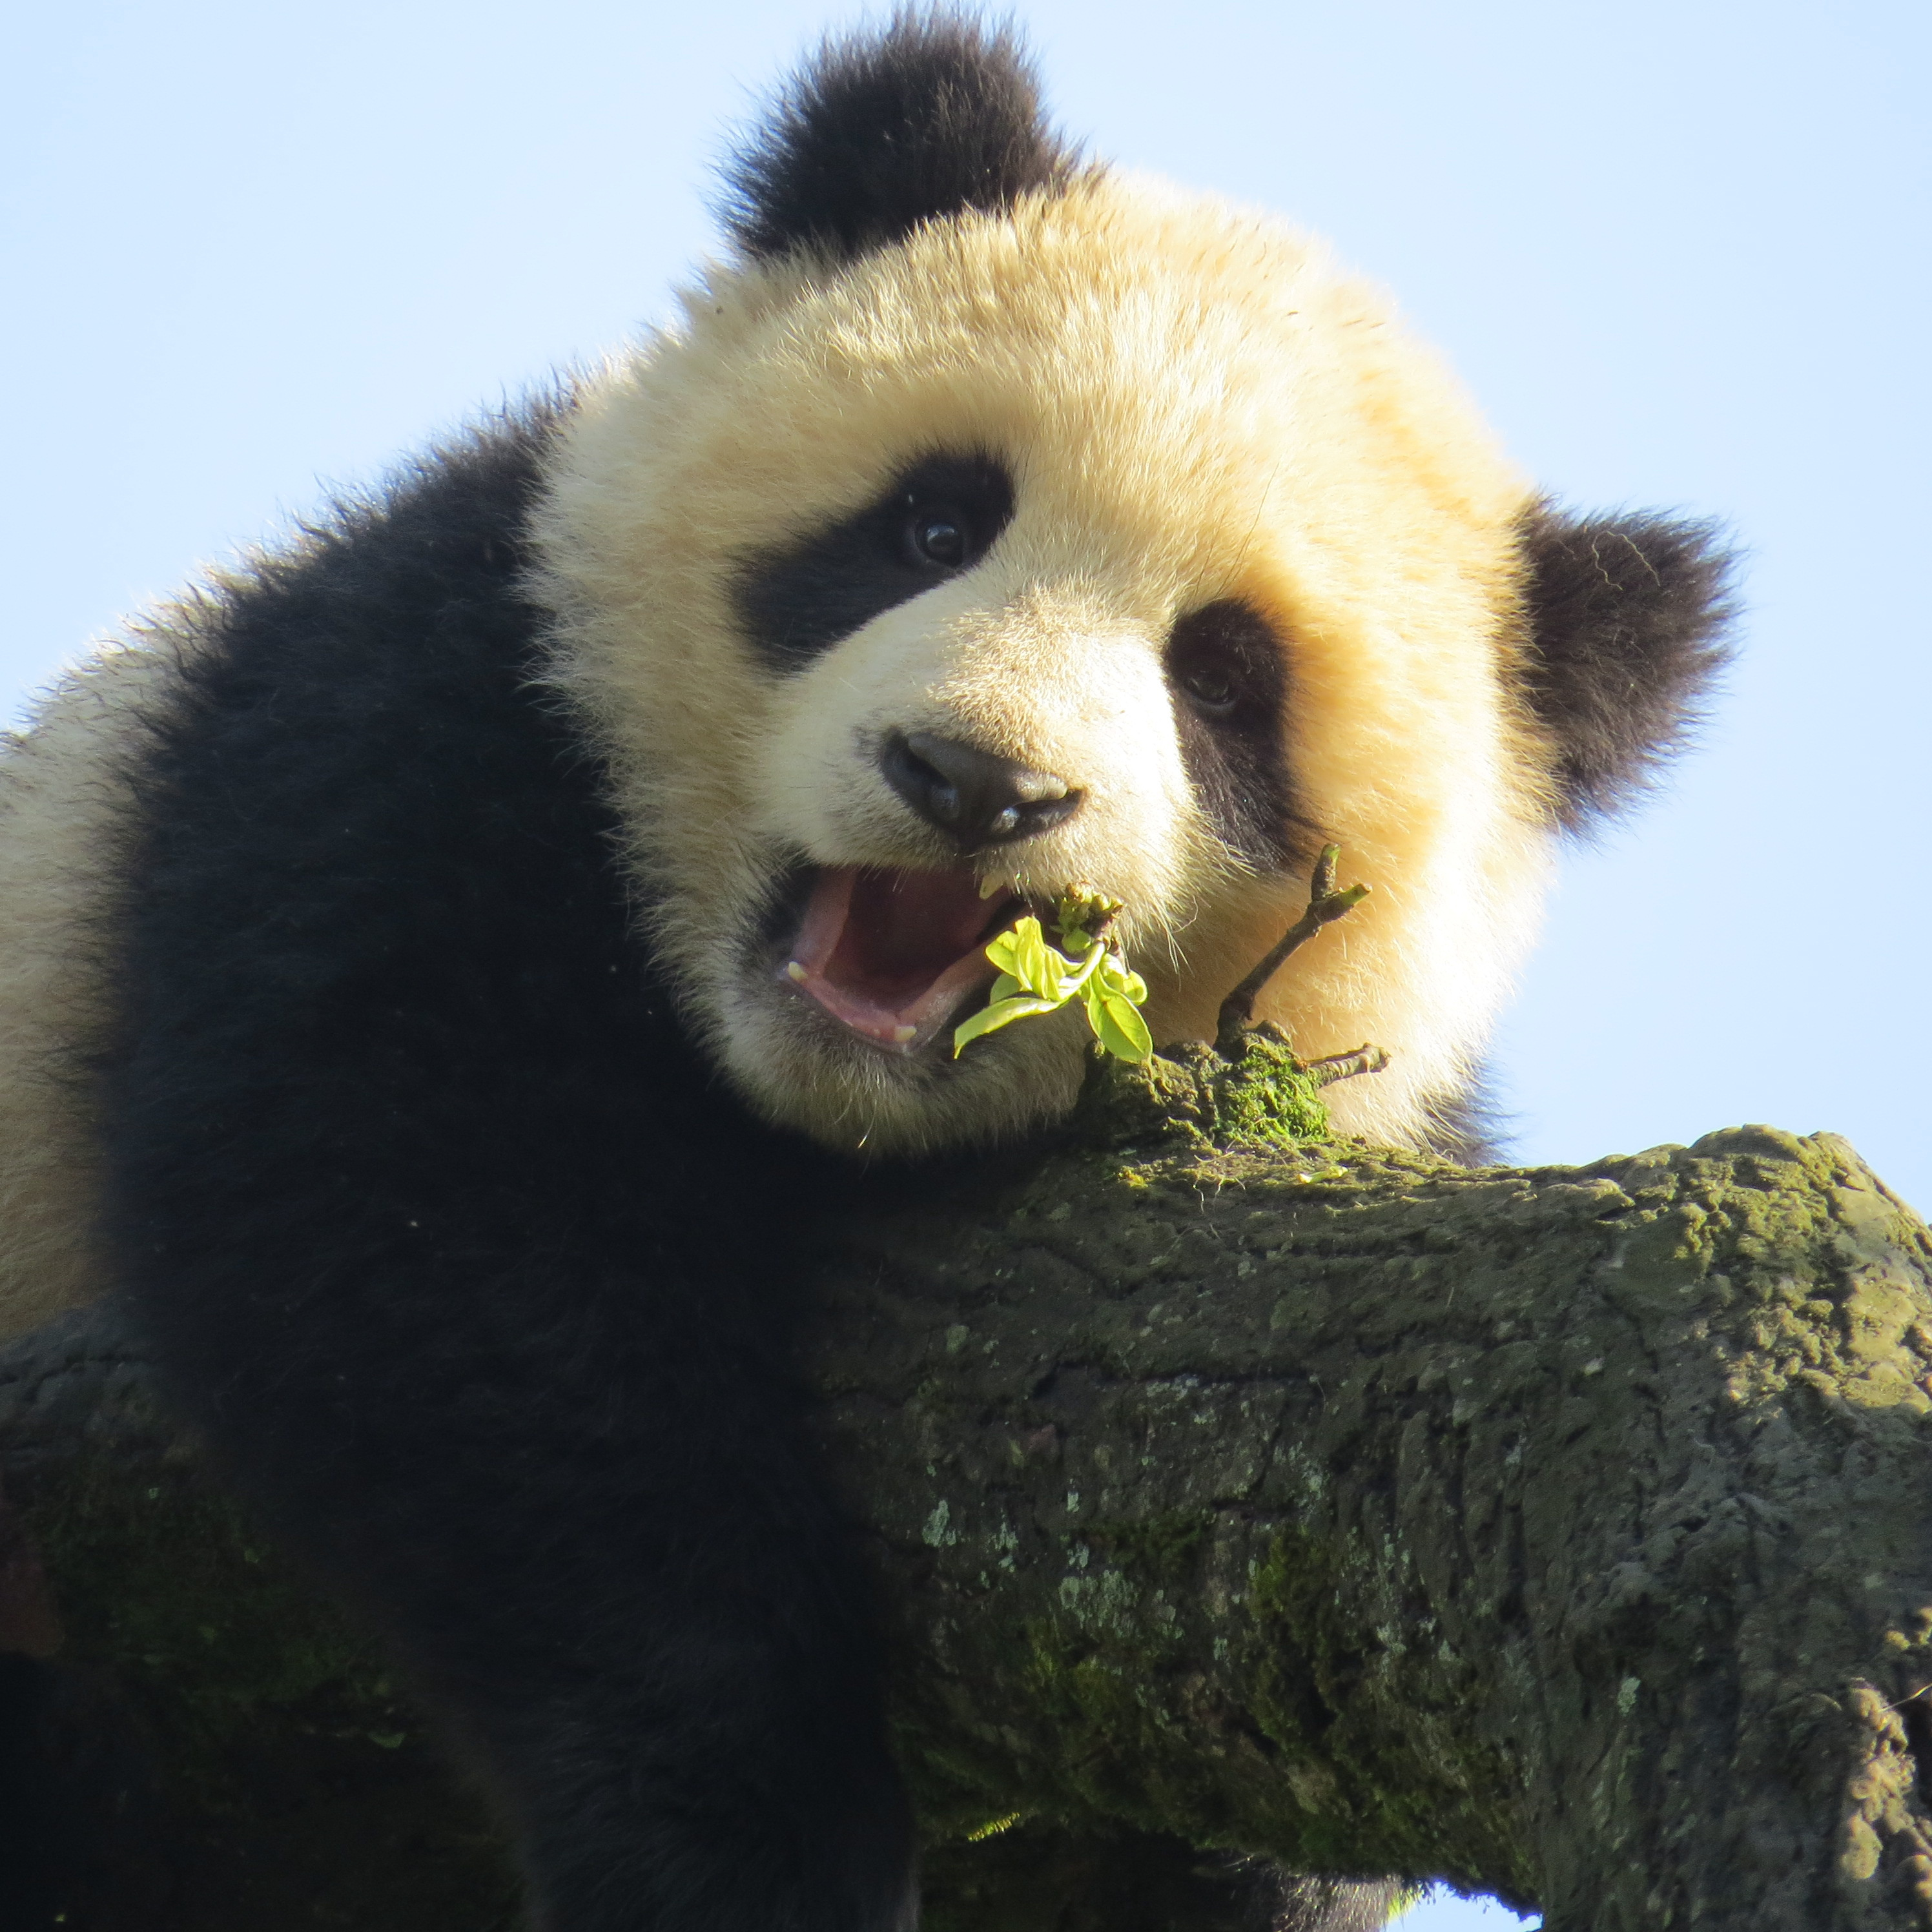panda: (2, 42, 1847, 1897)
